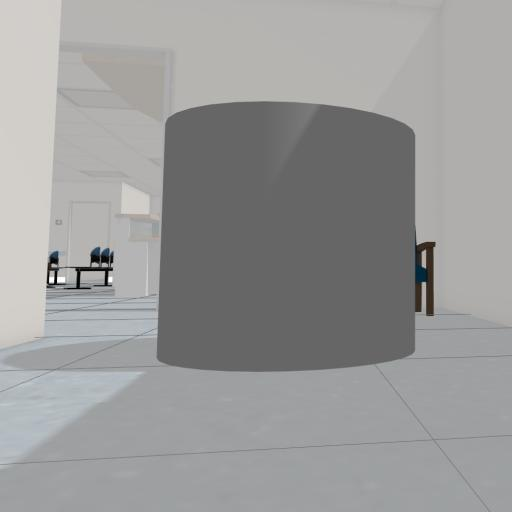cylinder: (5, 102, 423, 371)
